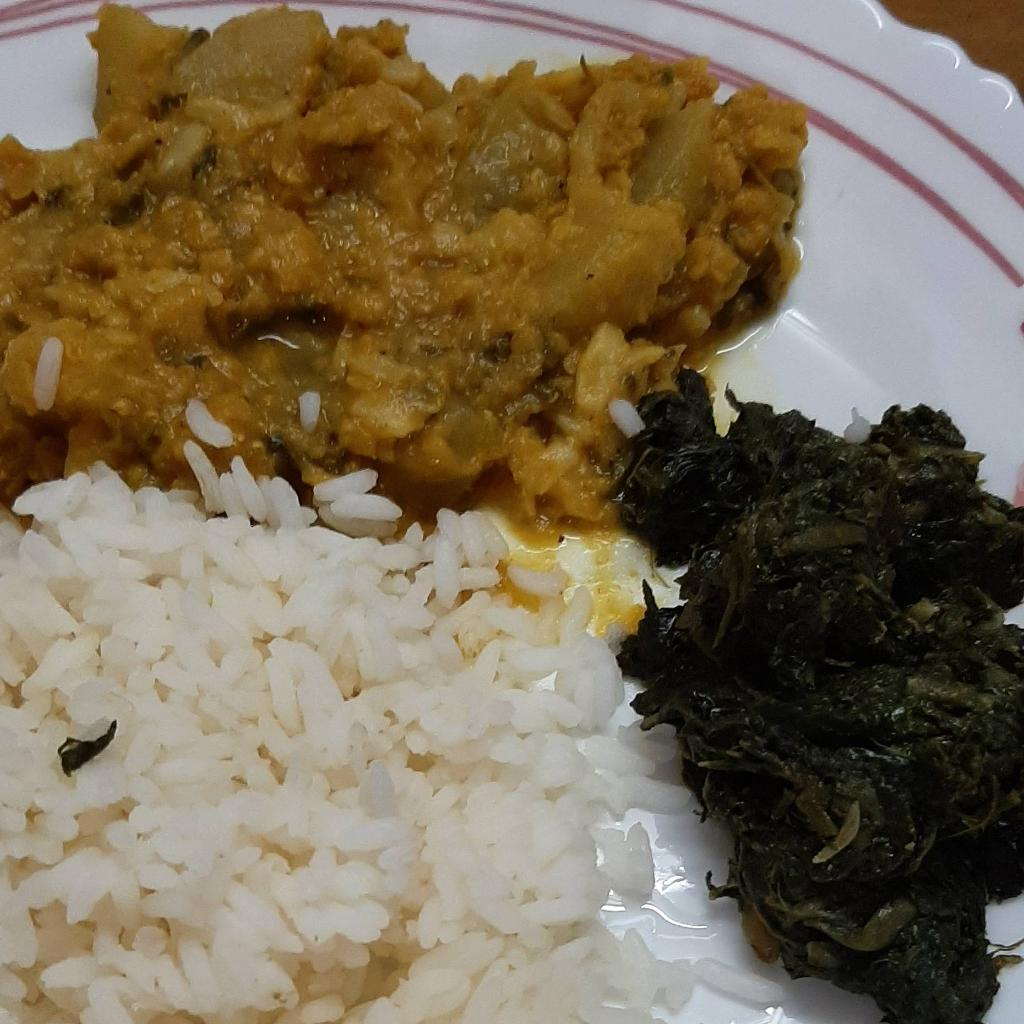kumra-vaji: (0, 6, 808, 548)
rice: (0, 470, 767, 1023)
shak: (619, 376, 1023, 1023)
